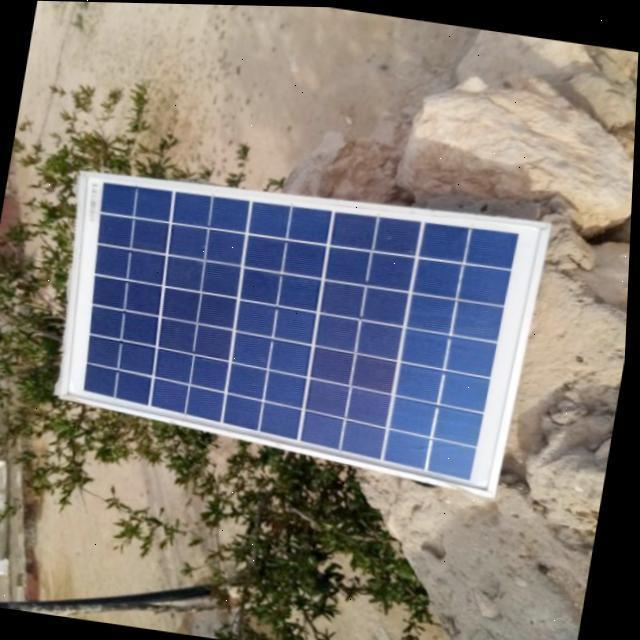Normal Solar Panel: (43, 155, 550, 492)
